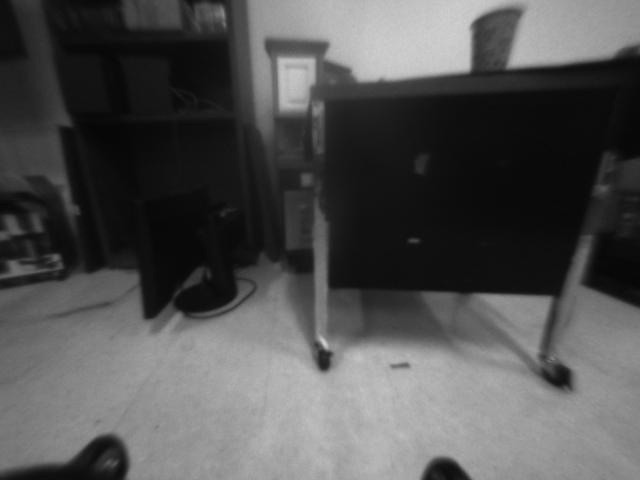coffee_cup: (465, 6, 525, 71)
